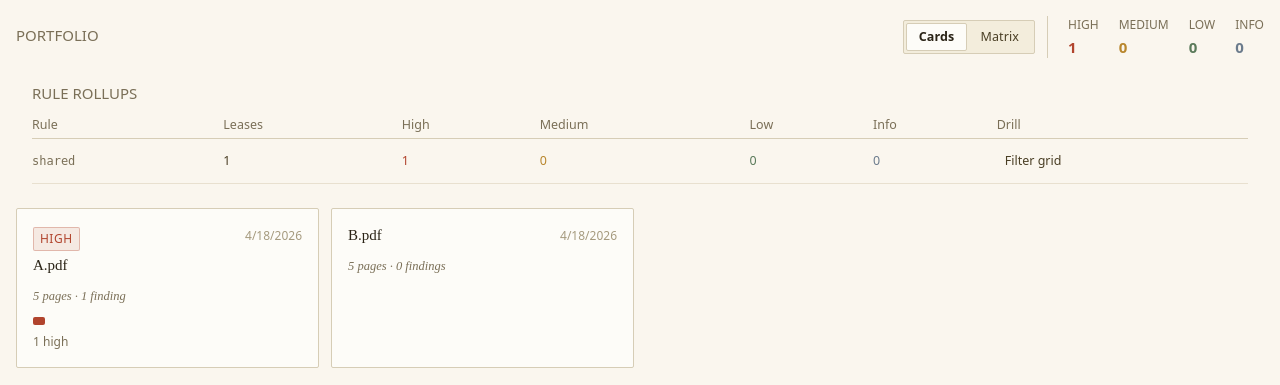
Test case: PortfolioPanel › shows severity badges in hit cells and em-dash in missing cells
Click the tab "Matrix" at (1000, 37), box [968,23,1032,51]
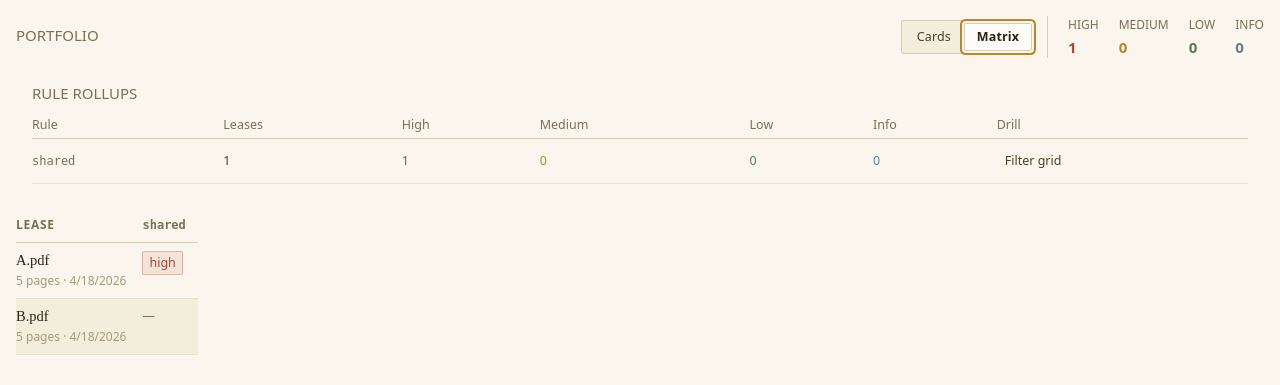
Check: the text "high" is shown, box [142,251,183,275]
Check: the text "—" is shown, box [142,307,155,324]
